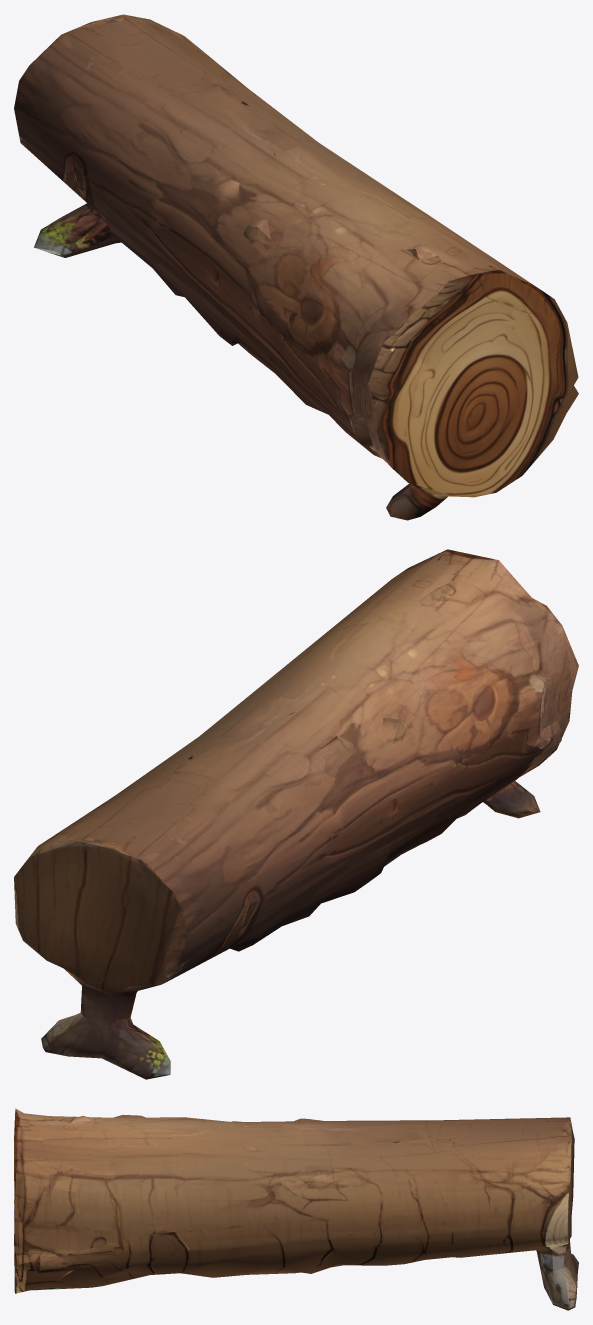
The model's file is log.glb.
3 renders of one model, top to bottom at view 1: azimuth 30°, elevation 25°; view 2: azimuth 150°, elevation 25°; view 3: azimuth 270°, elevation 25°, orthographic. The views are drawn at different scales.
Parts seen in each view (by area): view 1: Body; view 2: Body; view 3: Body.
Boxes of the visible parts, <box> form: Body: <box>14,14,578,520</box>; Body: <box>14,549,578,1079</box>; Body: <box>14,1108,578,1310</box>.
Bounding box in the file's own units: 0.4704 × 0.5 × 1.44.
1 material, 1 textured.
